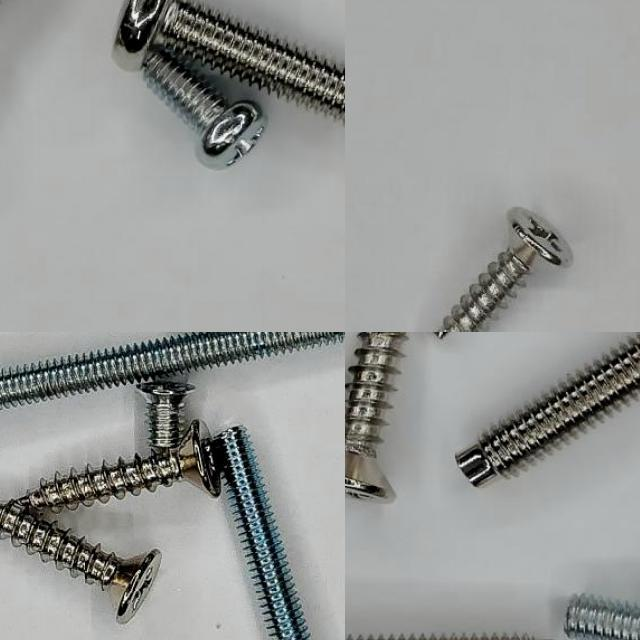Screw: (112, 0, 345, 122), (455, 334, 640, 487), (0, 332, 345, 407), (211, 427, 311, 640), (0, 500, 161, 624), (14, 420, 220, 512), (439, 208, 571, 332), (141, 52, 265, 169), (345, 332, 404, 502), (136, 380, 195, 454), (564, 596, 640, 640)
